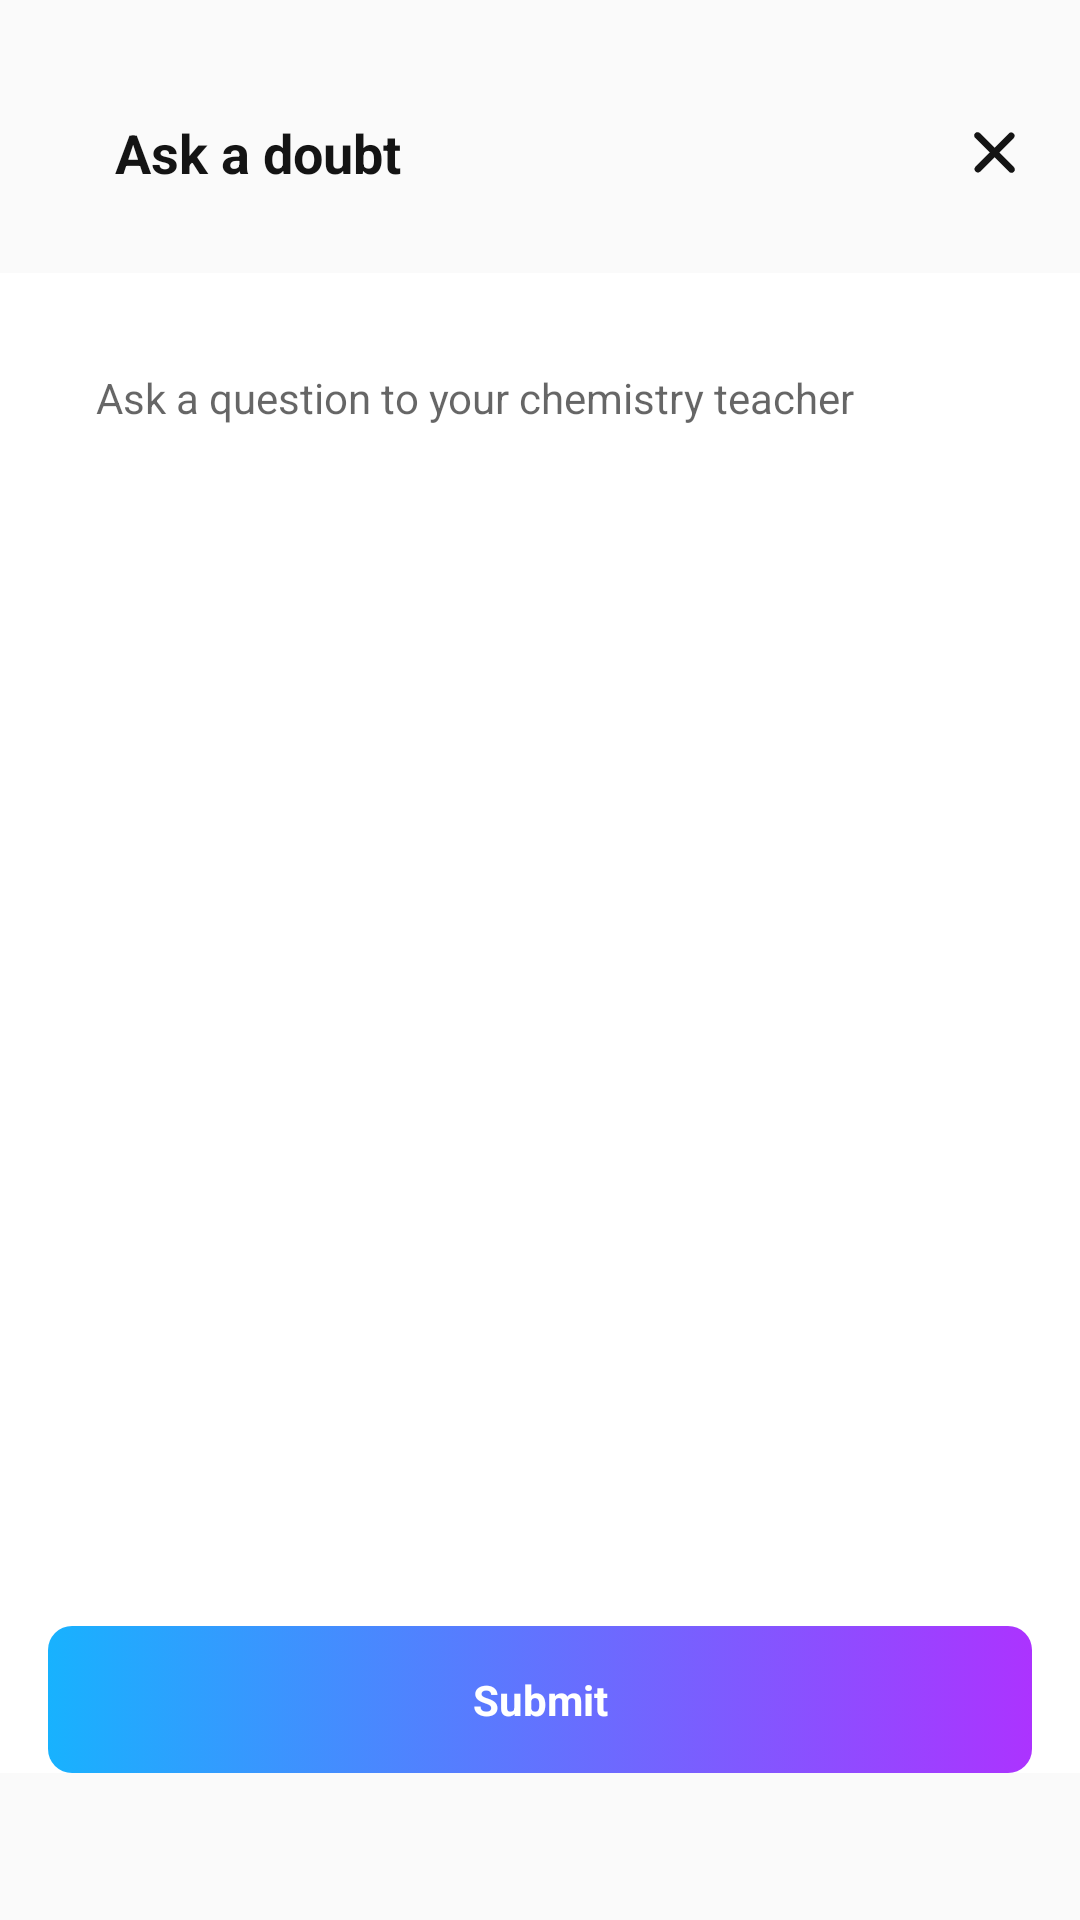

Where icons sit on this 1080px x 1920px app screen, as (x1, y1, x2, y2):
close: (974, 132, 1015, 173)
